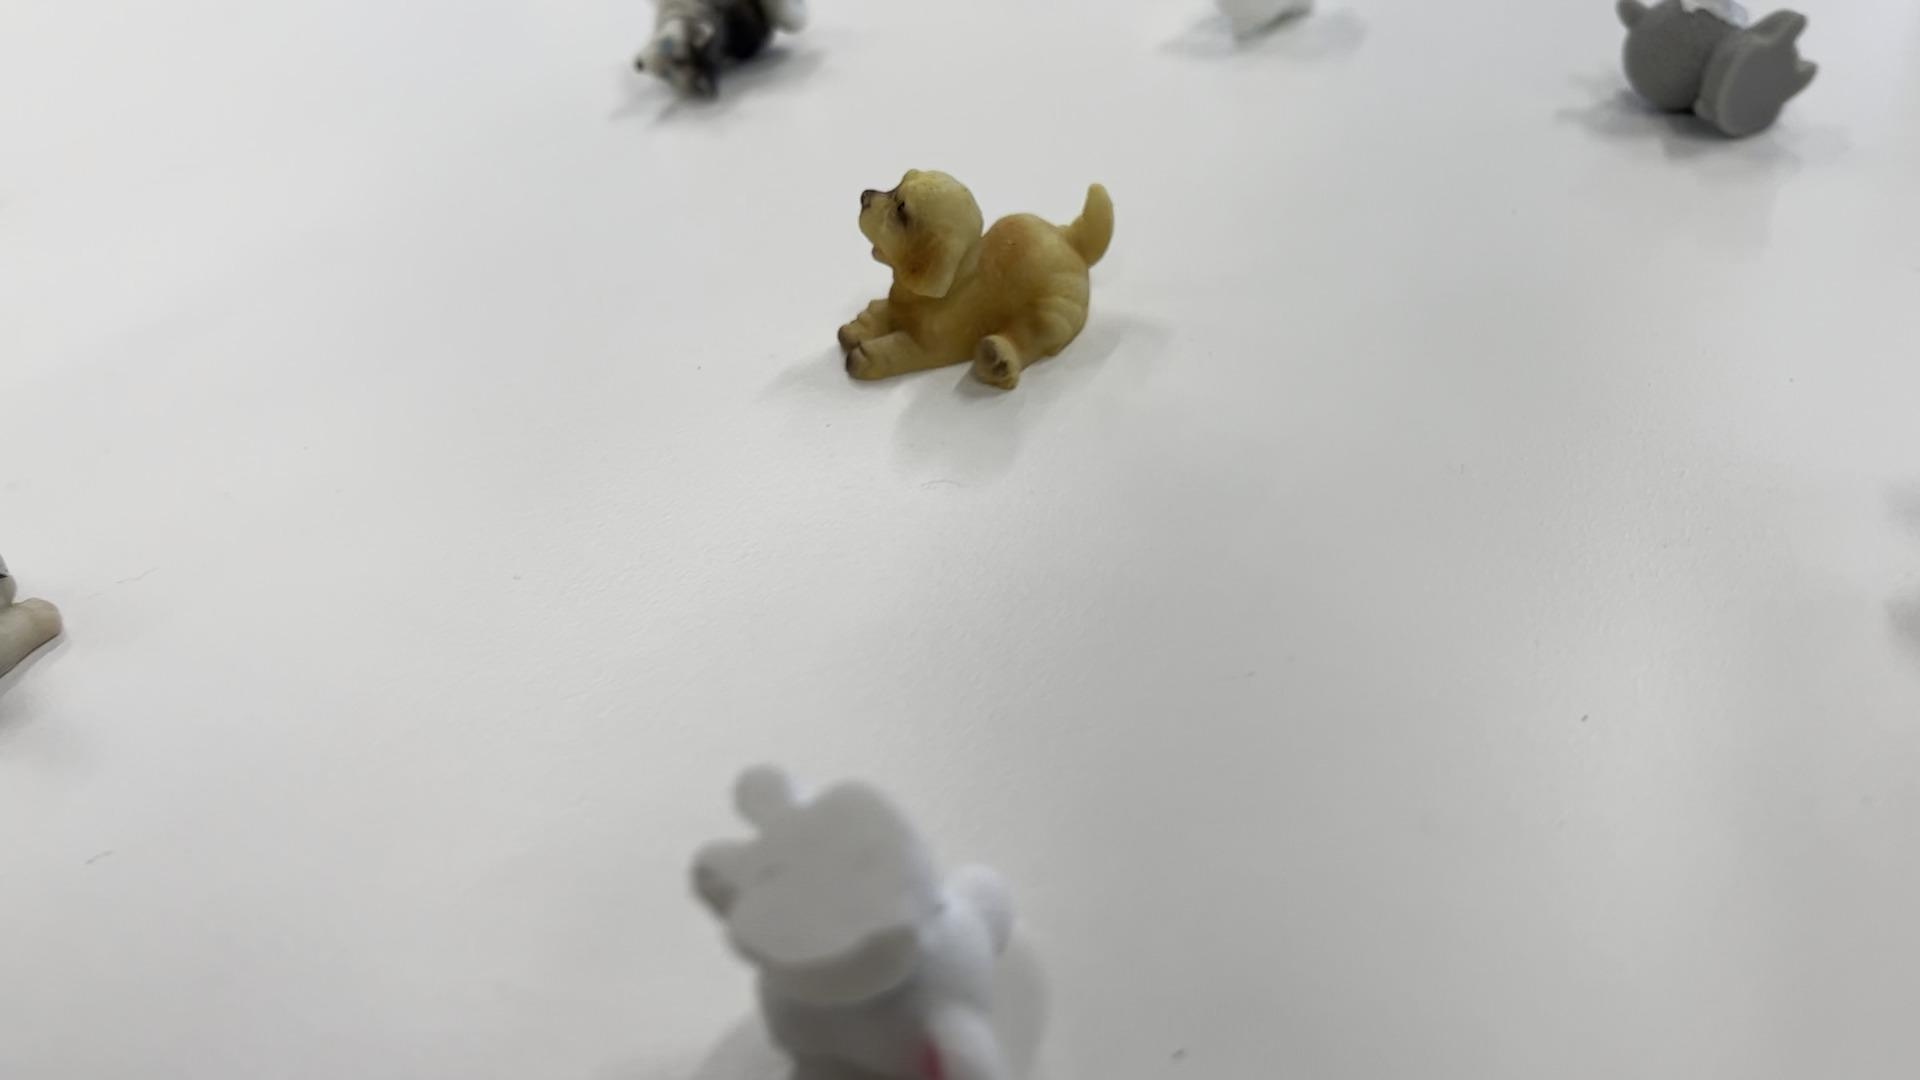pet: (671, 752, 1054, 1080), (841, 156, 1122, 413), (1614, 0, 1834, 169)
